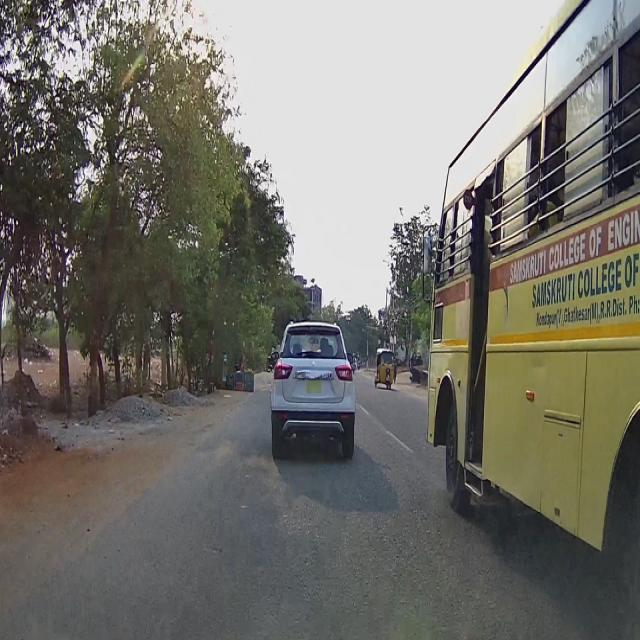bus ahead at: (424, 0, 640, 640)
car ahead at: (270, 310, 358, 462)
